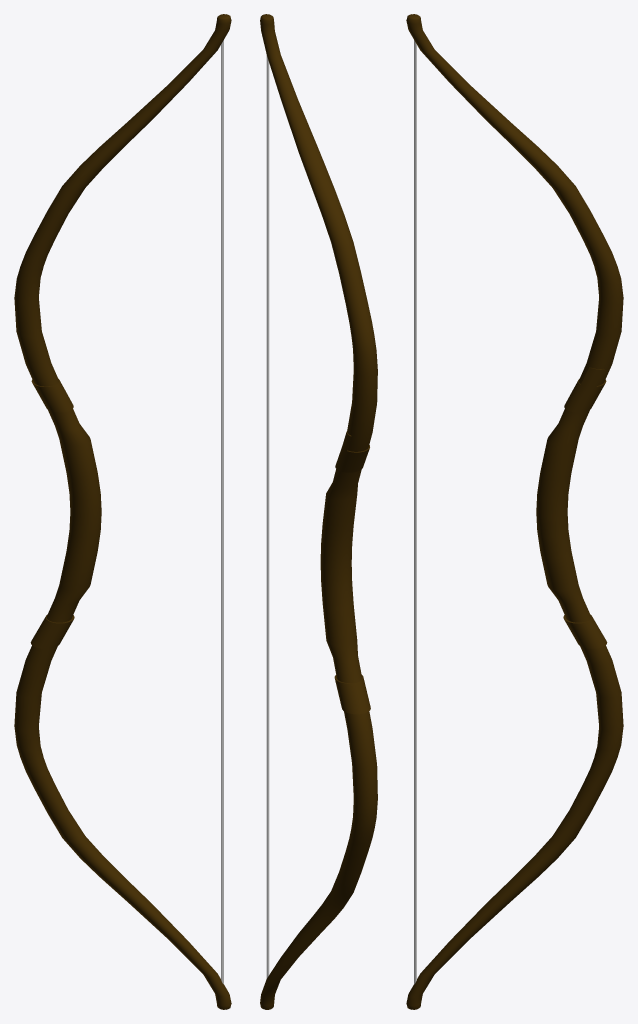
Rendered from Arco.fbx.
The picture shows the model from 3 angles, left to right: view 1: azimuth 90°, elevation 25°; view 2: azimuth 210°, elevation 25°; view 3: azimuth 270°, elevation 25°; orthographic projection.
Parts seen in each view (by area): view 1: Arco1; view 2: Arco1; view 3: Arco1.
Part boxes in pixels (x1=…): Arco1: x1=14, y1=14, x2=231, y2=1009; Arco1: x1=260, y1=14, x2=377, y2=1009; Arco1: x1=406, y1=14, x2=623, y2=1009.
Bounding box in the file's own units: 0.2602 × 9.11 × 1.81.
